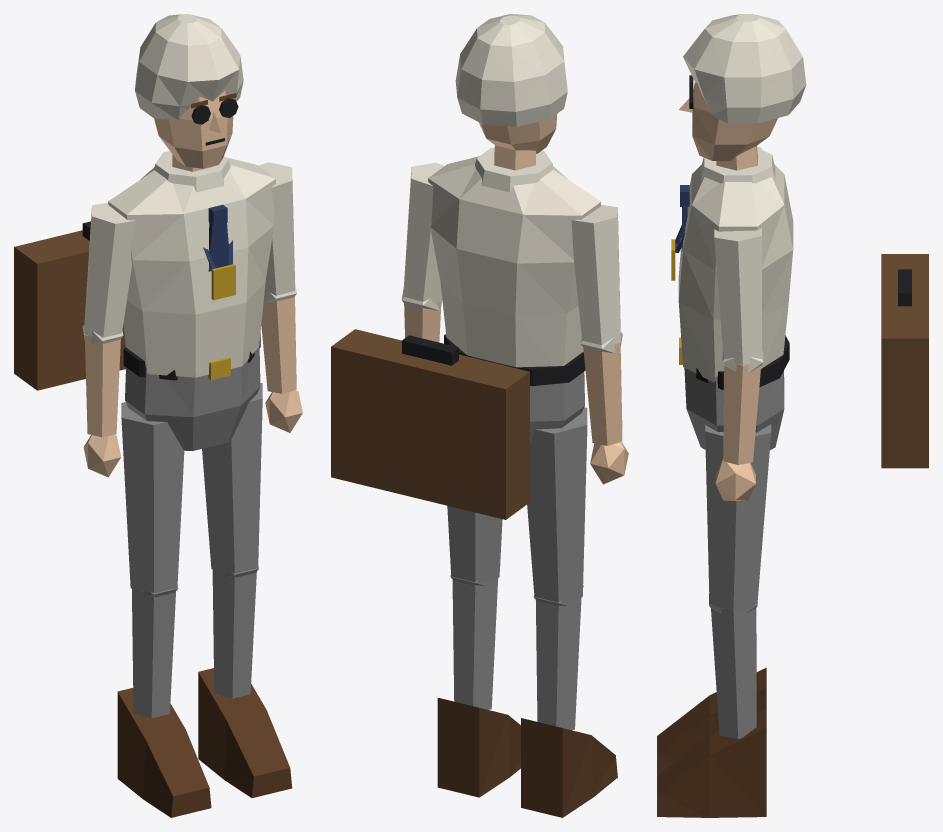
Rendered from kevin-from-accounting.glb.
3 views of the same model, side by side, from view 1: azimuth 30°, elevation 25°; view 2: azimuth 150°, elevation 25°; view 3: azimuth 270°, elevation 25° (orthographic). The views are drawn at different scales.
Visible parts, largest first — view 1: chest_mesh, shin_r_mesh, shin_l_mesh, head_mesh, prop_mesh, thigh_r_mesh, hips_mesh, thigh_l_mesh, upper_arm_r_mesh, forearm_r_mesh, forearm_l_mesh, upper_arm_l_mesh (+3 smaller); view 2: prop_mesh, chest_mesh, head_mesh, shin_r_mesh, shin_l_mesh, thigh_r_mesh, upper_arm_r_mesh, forearm_r_mesh, upper_arm_l_mesh, hips_mesh, thigh_l_mesh, forearm_l_mesh; view 3: chest_mesh, head_mesh, shin_l_mesh, prop_mesh, thigh_l_mesh, upper_arm_l_mesh, forearm_l_mesh, hips_mesh, shin_r_mesh.
Part boxes in pixels (x1=…): chest_mesh: x1=108, y1=151, x2=275, y2=377; shin_r_mesh: x1=117, y1=588, x2=211, y2=817; shin_l_mesh: x1=198, y1=569, x2=292, y2=797; head_mesh: x1=135, y1=14, x2=243, y2=171; prop_mesh: x1=14, y1=221, x2=125, y2=390; thigh_r_mesh: x1=121, y1=402, x2=184, y2=597; hips_mesh: x1=123, y1=334, x2=260, y2=450; thigh_l_mesh: x1=202, y1=383, x2=262, y2=577; upper_arm_r_mesh: x1=82, y1=203, x2=136, y2=344; forearm_r_mesh: x1=83, y1=334, x2=120, y2=477; forearm_l_mesh: x1=261, y1=296, x2=302, y2=432; upper_arm_l_mesh: x1=258, y1=162, x2=296, y2=302; prop_mesh: x1=331, y1=329, x2=529, y2=519; chest_mesh: x1=428, y1=147, x2=601, y2=367; head_mesh: x1=455, y1=14, x2=567, y2=170; shin_r_mesh: x1=521, y1=597, x2=617, y2=817; shin_l_mesh: x1=437, y1=578, x2=520, y2=797; thigh_r_mesh: x1=527, y1=407, x2=587, y2=606; upper_arm_r_mesh: x1=571, y1=204, x2=622, y2=353; forearm_r_mesh: x1=583, y1=342, x2=628, y2=484; upper_arm_l_mesh: x1=401, y1=162, x2=444, y2=310; hips_mesh: x1=444, y1=334, x2=585, y2=443; thigh_l_mesh: x1=447, y1=506, x2=502, y2=585; forearm_l_mesh: x1=404, y1=302, x2=441, y2=342; chest_mesh: x1=678, y1=148, x2=793, y2=382; head_mesh: x1=683, y1=14, x2=806, y2=170; shin_l_mesh: x1=657, y1=608, x2=766, y2=817; prop_mesh: x1=881, y1=254, x2=928, y2=468; thigh_l_mesh: x1=705, y1=424, x2=771, y2=613; upper_arm_l_mesh: x1=714, y1=227, x2=763, y2=373; forearm_l_mesh: x1=715, y1=364, x2=761, y2=500; hips_mesh: x1=684, y1=335, x2=789, y2=450; shin_r_mesh: x1=657, y1=633, x2=766, y2=775.
Size of the model in its own units: 0.5216 by 1.78 by 0.57.
